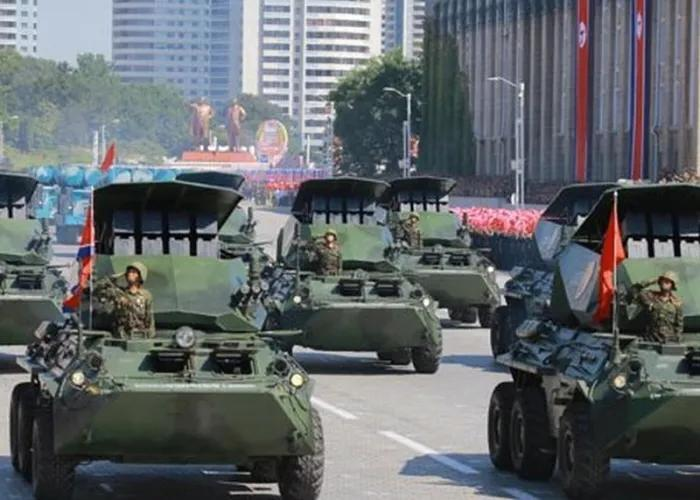MIL_IFV: (8, 174, 326, 498), (486, 171, 700, 500), (273, 174, 444, 373), (388, 175, 510, 328)
